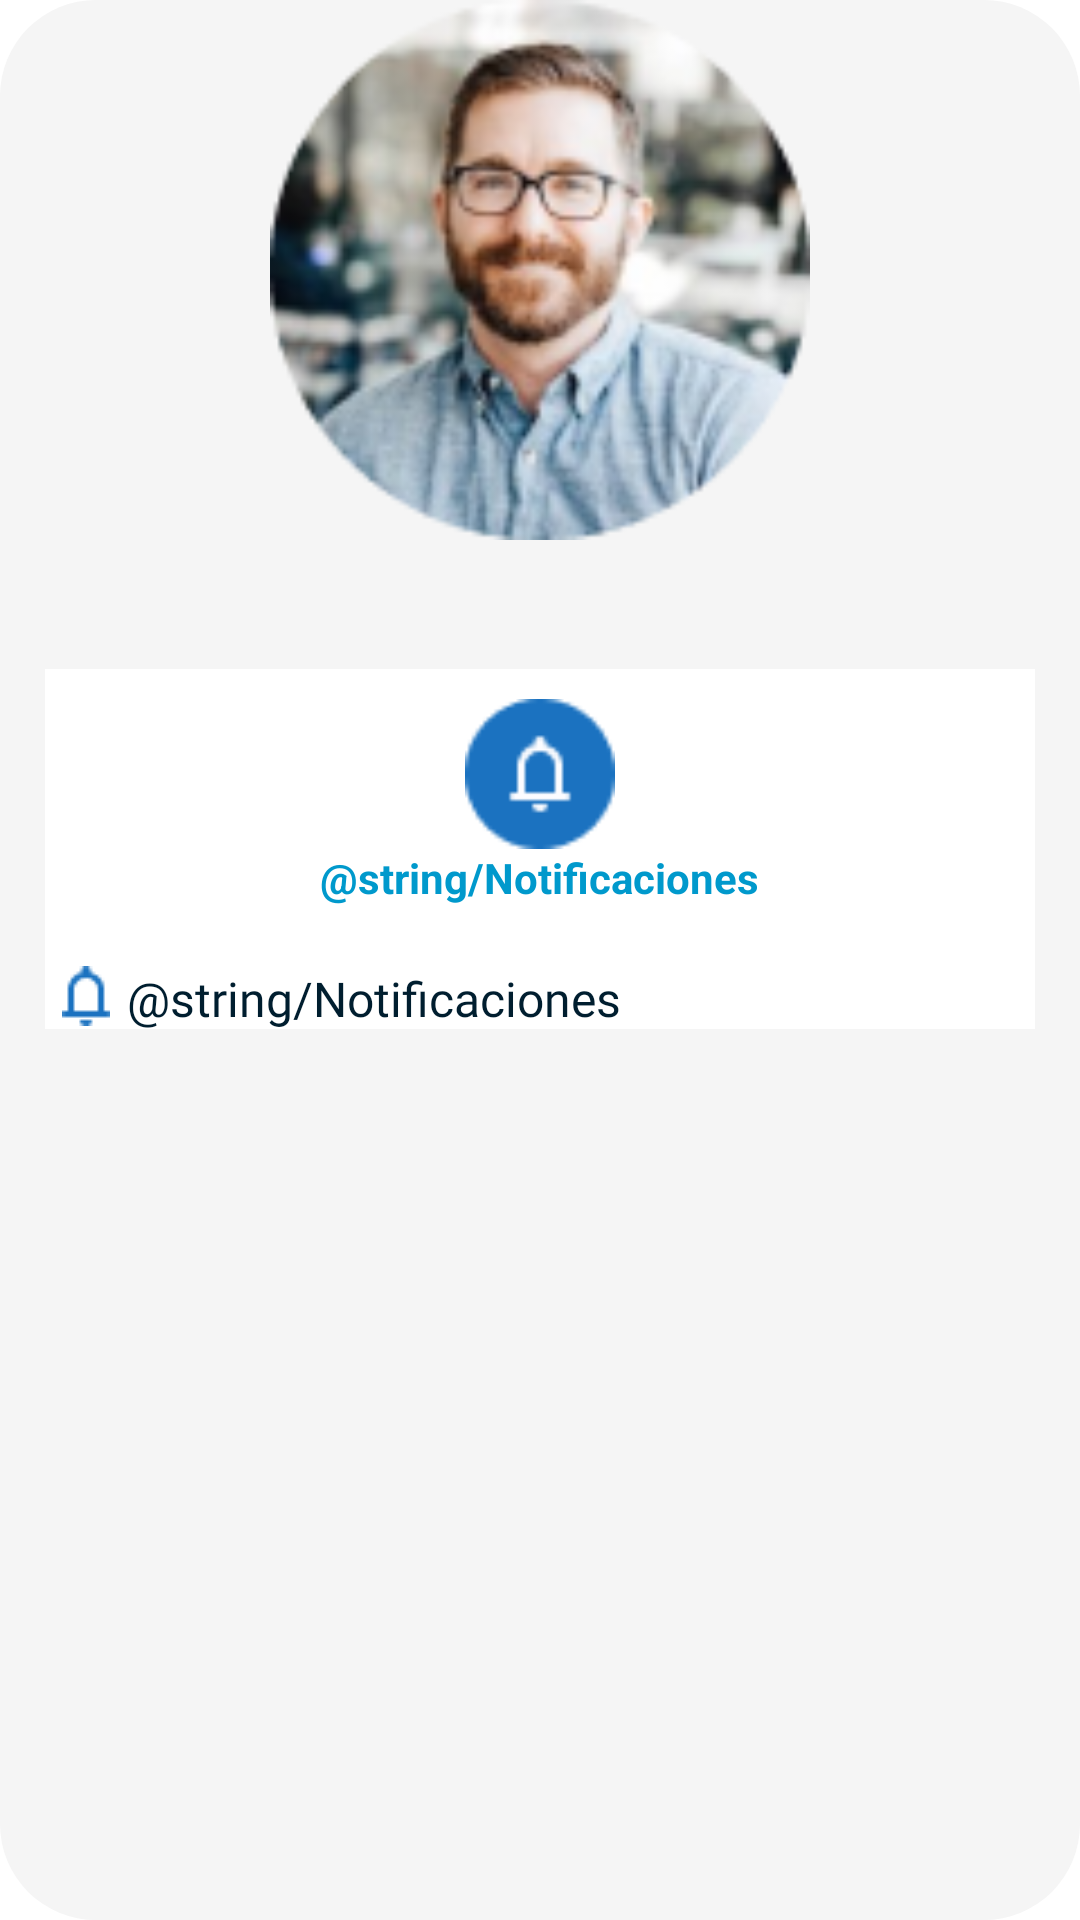

Screen size 1080 x 1920. Icon name, then its box in pixels as [x1, y1, x2, y2]:
bell: [465, 699, 615, 849], [62, 966, 110, 1026]
